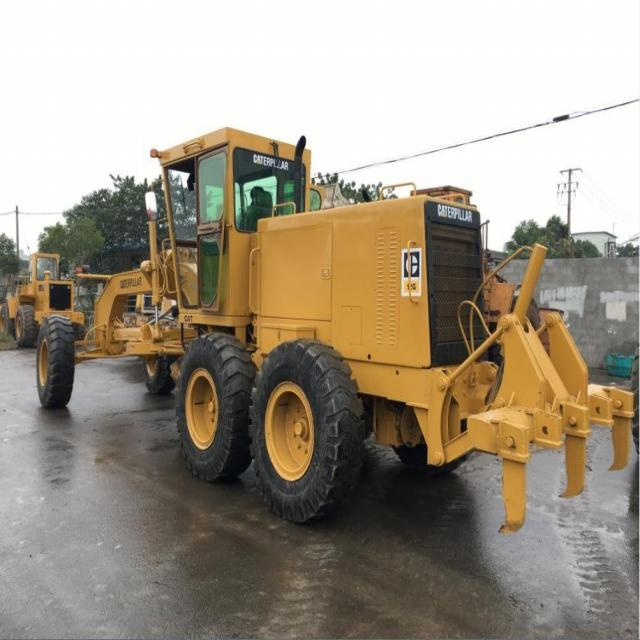Grader: (27, 111, 626, 562)
